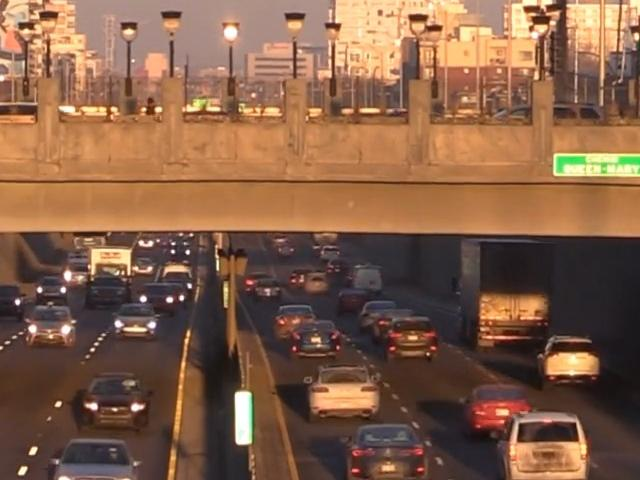car: (496, 412, 590, 480), (339, 420, 440, 480), (305, 362, 384, 422), (458, 383, 532, 444), (78, 375, 148, 436), (49, 436, 141, 480), (537, 336, 604, 387), (288, 313, 349, 360), (24, 303, 76, 352), (377, 317, 430, 365), (110, 302, 160, 340)
truck: (458, 240, 559, 349)
